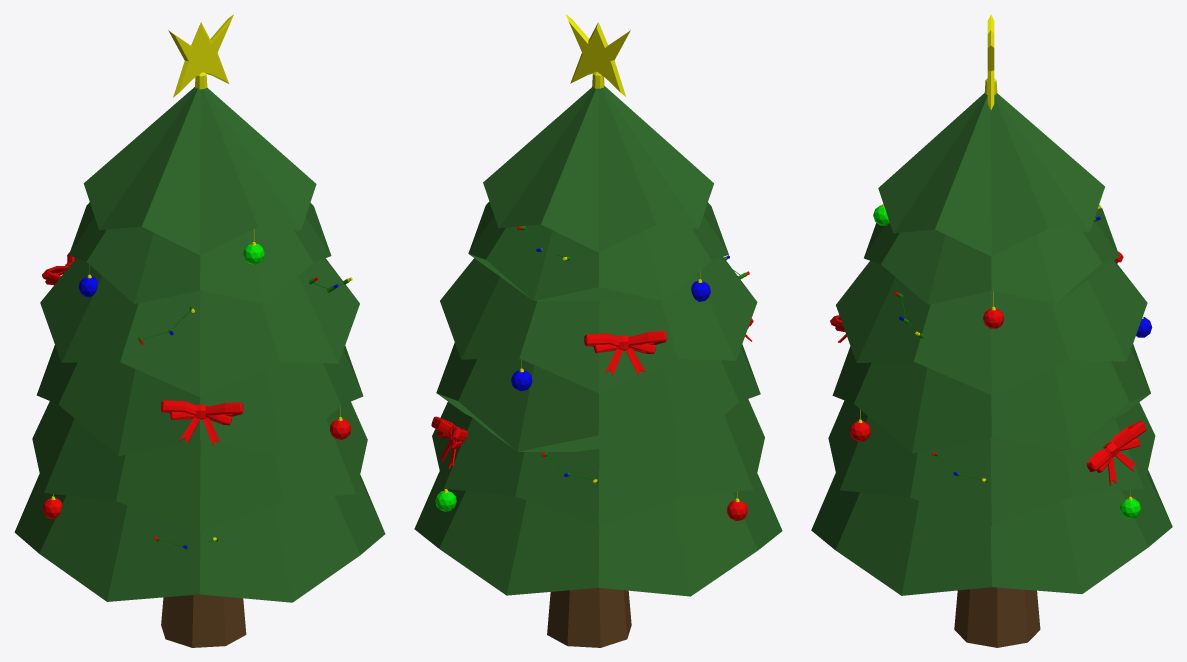
Rendered from ChristmasTree.fbx.
The picture shows the model from 3 angles, left to right: view 1: azimuth 30°, elevation 25°; view 2: azimuth 150°, elevation 25°; view 3: azimuth 270°, elevation 25°; orthographic projection. The views are drawn at different scales.
Visible parts, largest first — view 1: ChristmasTree; view 2: ChristmasTree; view 3: ChristmasTree.
Part boxes in pixels (x1,y1,x2,y2): ChristmasTree: [14, 14, 385, 647]; ChristmasTree: [414, 14, 782, 647]; ChristmasTree: [811, 14, 1172, 647].
Bounding box in the file's own units: 369 × 670 × 368.
